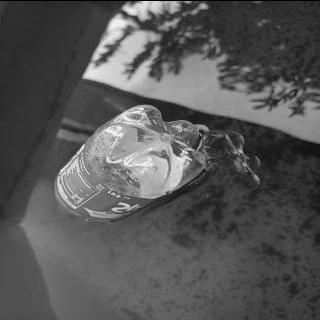bottle: (51, 104, 208, 222)
